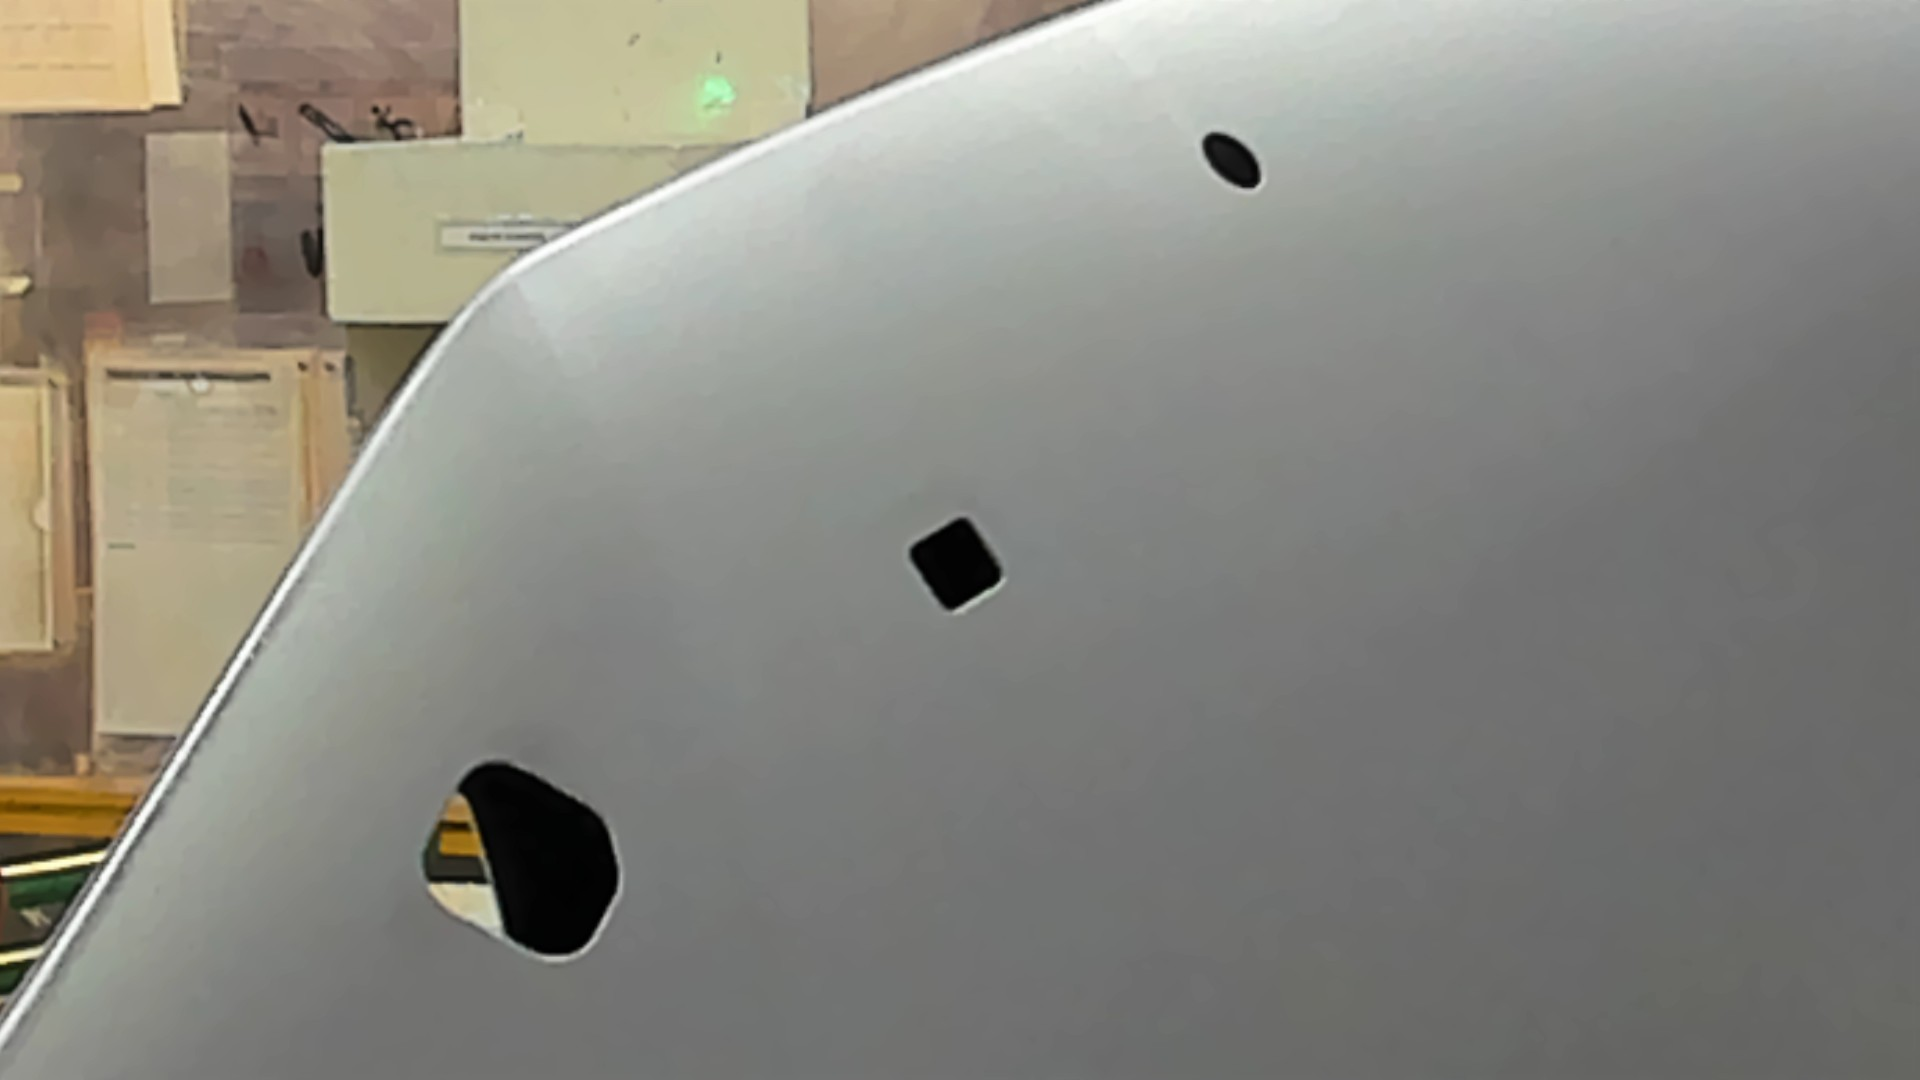chico: (1185, 123, 1275, 206)
grande: (386, 745, 661, 985)
mediano: (886, 483, 1033, 626)
